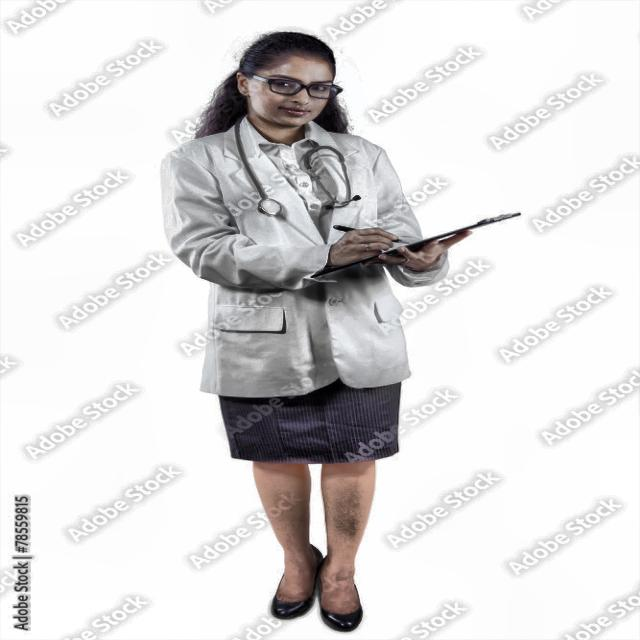Human: (136, 24, 482, 635)
